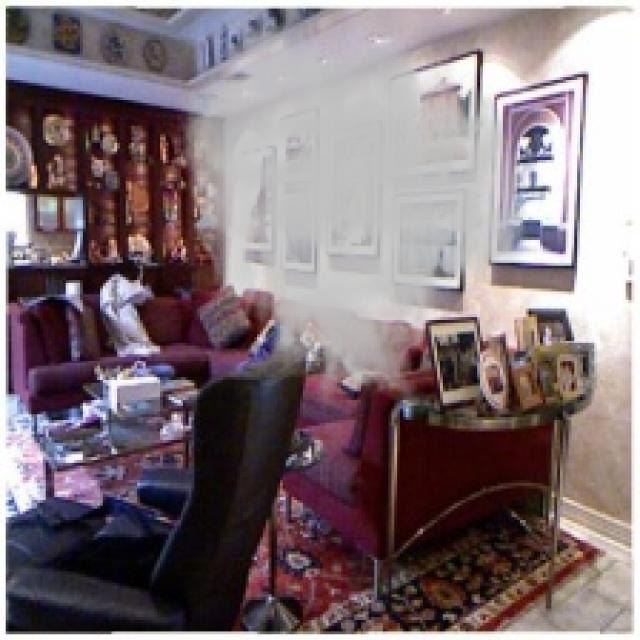smoke: (174, 20, 532, 414)
